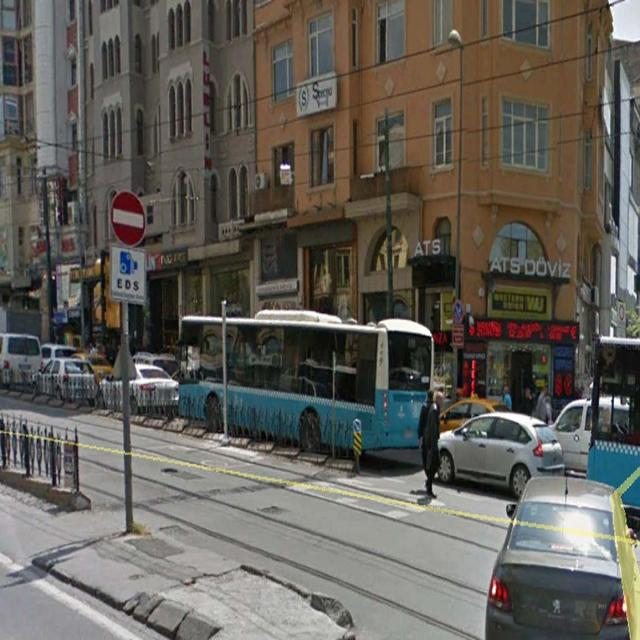girisyok: (111, 191, 146, 245)
parkyasak: (453, 298, 464, 322)
